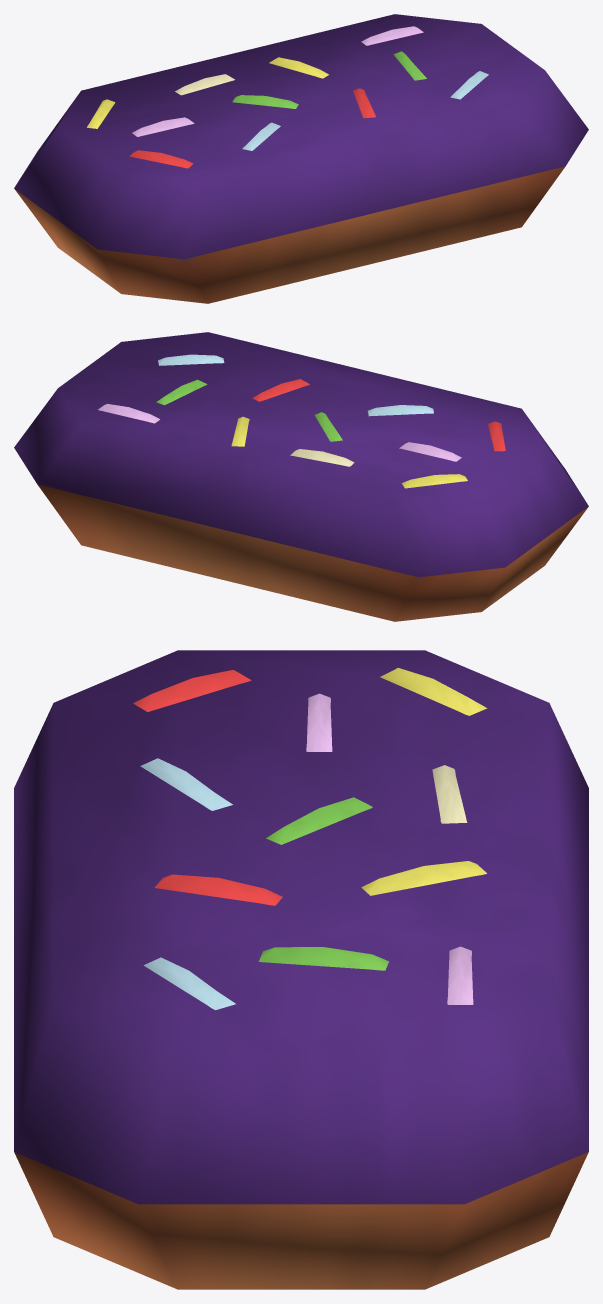
File: Doughnut_Bar_E_3.FBX
3 views of the same model, one above another, from view 1: azimuth 30°, elevation 25°; view 2: azimuth 150°, elevation 25°; view 3: azimuth 270°, elevation 25° (orthographic). The views are drawn at different scales.
Visible parts, largest first — view 1: Doughnut_Bar; view 2: Doughnut_Bar; view 3: Doughnut_Bar.
Part boxes in pixels (box(x1,y1,x2,y2)): Doughnut_Bar: box(14, 14, 588, 303); Doughnut_Bar: box(14, 332, 588, 621); Doughnut_Bar: box(14, 650, 588, 1289).
Size of the model in its own units: 75.48 by 18.74 by 39.15.
